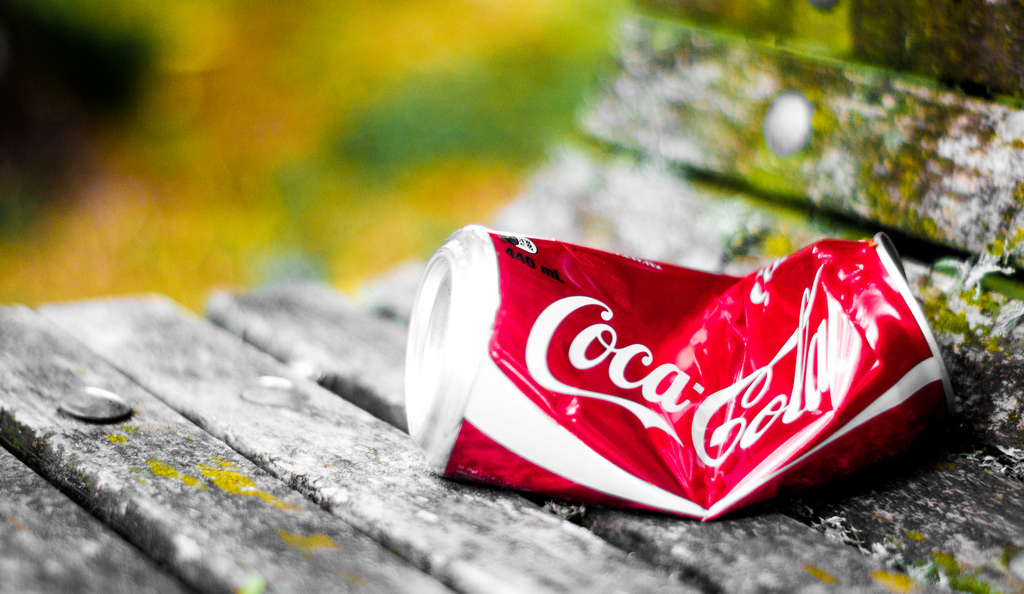can: (400, 218, 957, 537)
